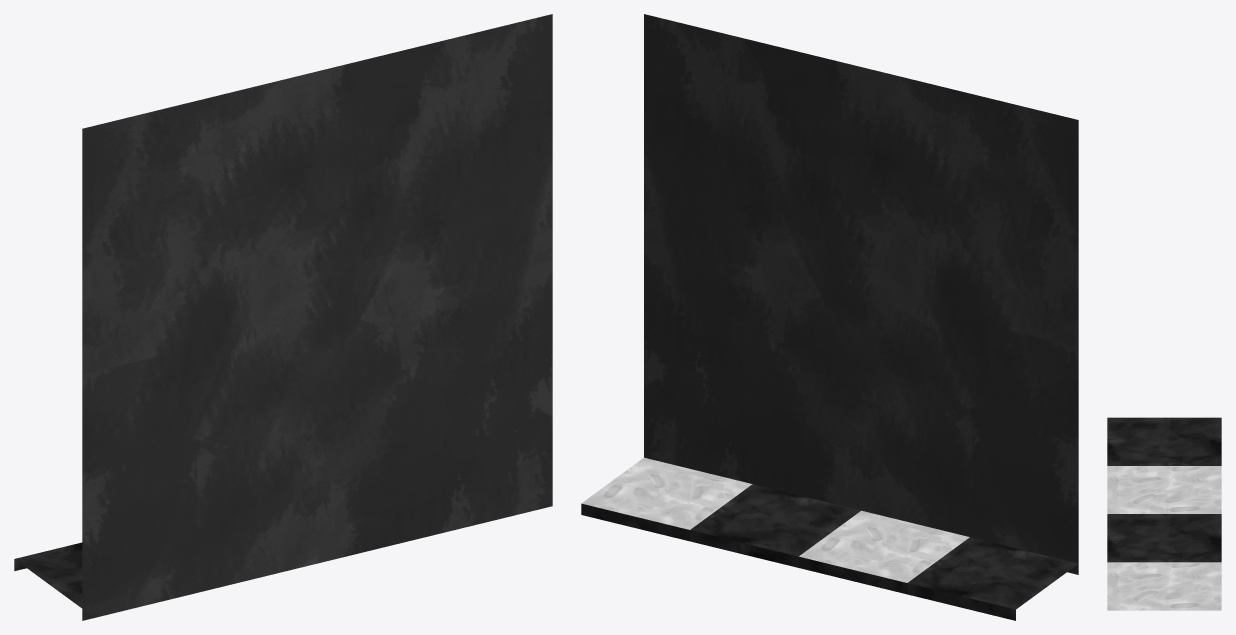
File: City_Sidewalk_and_Building_01.dae
3 views of the same model, side by side, from view 1: azimuth 30°, elevation 25°; view 2: azimuth 150°, elevation 25°; view 3: azimuth 270°, elevation 25° (orthographic). The views are drawn at different scales.
Visible parts, largest first — view 1: pPlane29; view 2: pPlane29; view 3: pPlane29.
Part boxes in pixels (x1,y1,x2,y2): pPlane29: (14, 14, 552, 620); pPlane29: (581, 14, 1078, 620); pPlane29: (1107, 417, 1221, 610).
Size of the model in its own units: 8 by 8 by 2.
